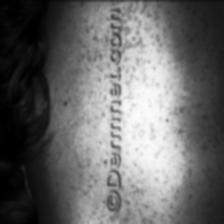Toxin: (123, 16, 152, 64)
